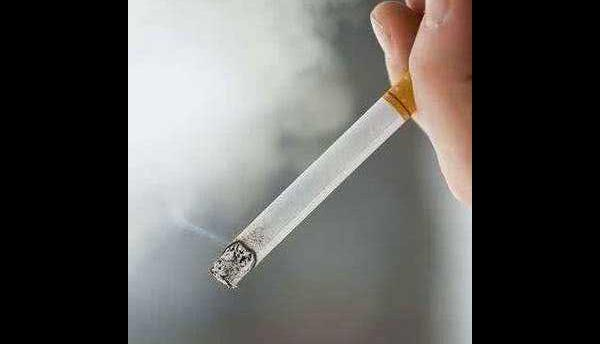Cigarette: (209, 73, 421, 286)
